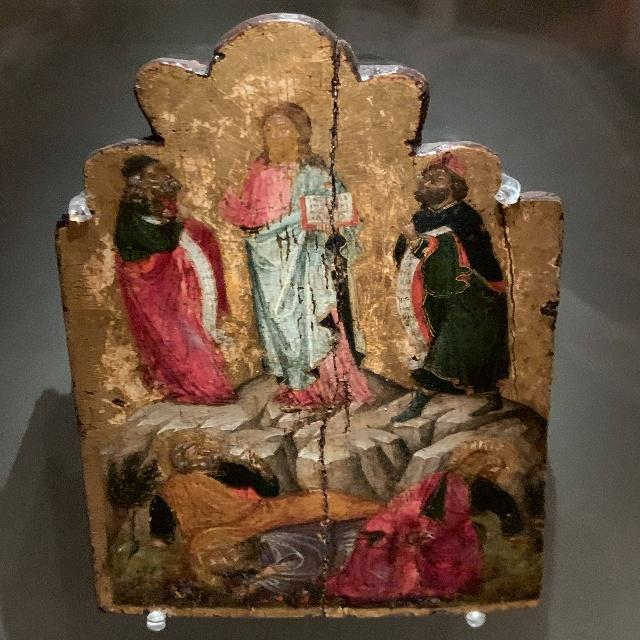aura: (94, 145, 184, 211), (415, 149, 489, 211), (450, 438, 518, 492), (151, 426, 227, 474)
book: (303, 195, 352, 227)
christ_resurrected: (202, 88, 391, 401)
saint: (130, 428, 357, 588), (99, 149, 243, 396), (385, 153, 522, 392), (349, 441, 528, 592)
